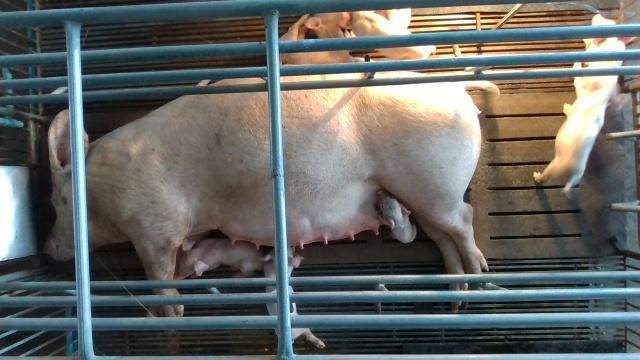piglet: (533, 76, 608, 191), (263, 246, 327, 349), (281, 14, 372, 64), (353, 9, 435, 59), (573, 13, 625, 91), (176, 238, 263, 280), (376, 189, 417, 244), (304, 12, 350, 39)
sow-sleep-lactate: (45, 75, 500, 333)
